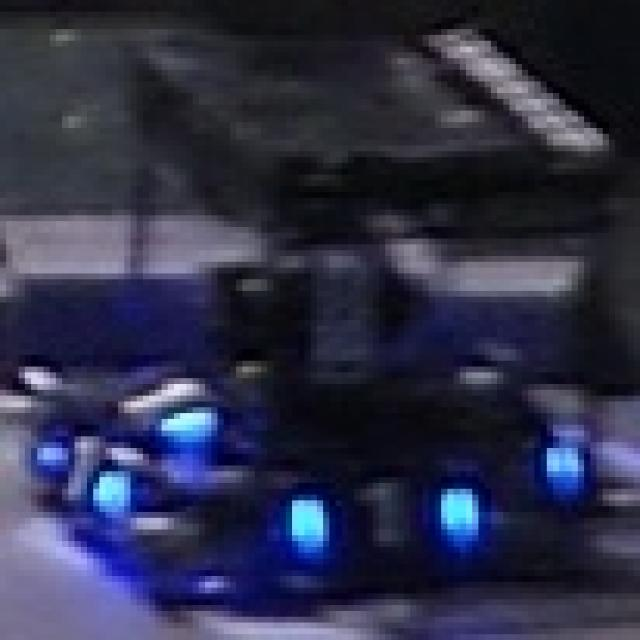B1: (286, 463, 491, 544), (87, 361, 205, 448), (22, 422, 127, 515)
